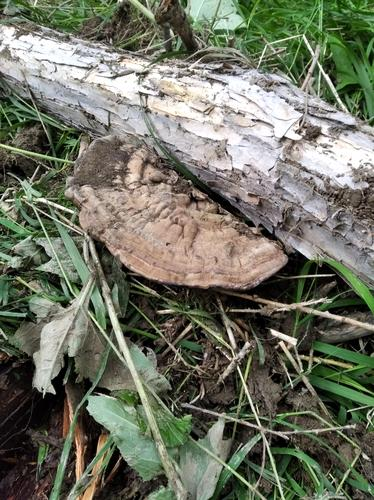Ganoderma - Fruit Body: (74, 136, 287, 292)
